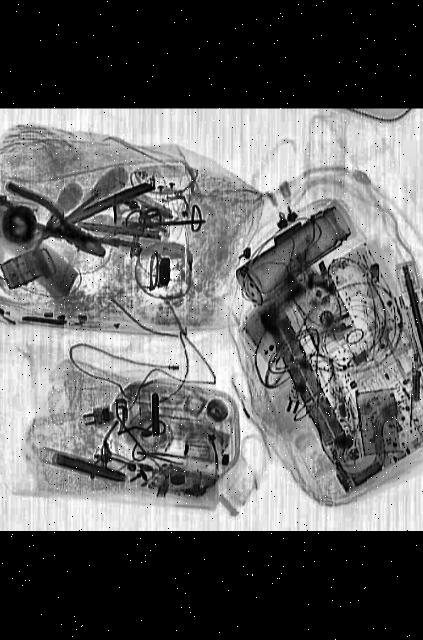Pliers: (0, 177, 116, 267)
